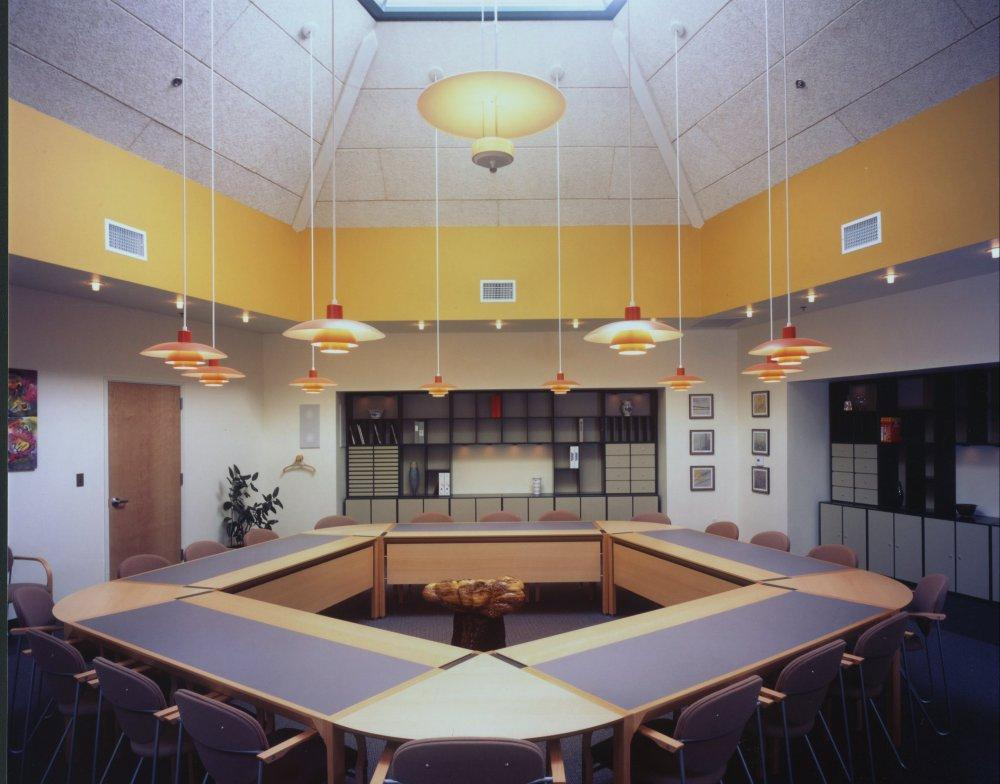Puerta: (110, 381, 186, 558)
